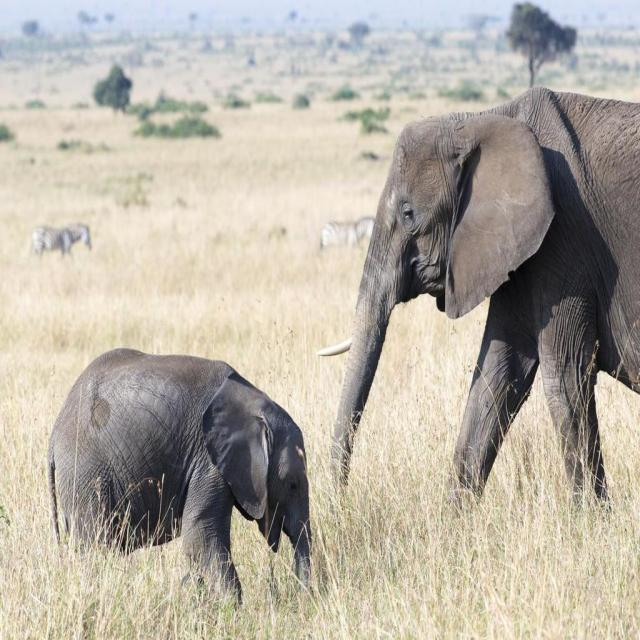Elephant: (316, 83, 640, 520), (46, 346, 312, 610)
